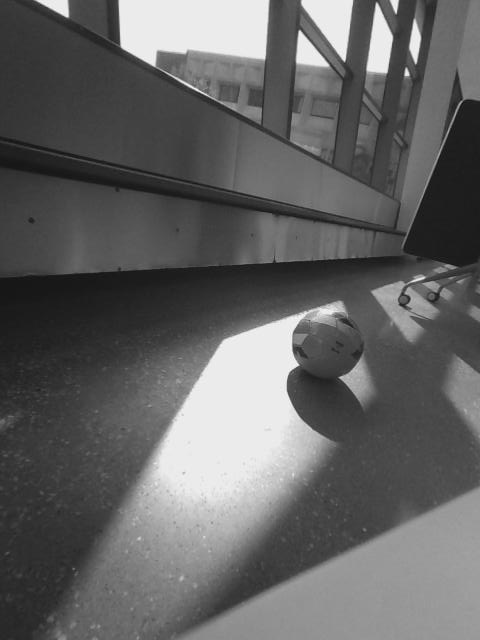ball: (291, 307, 364, 382)
